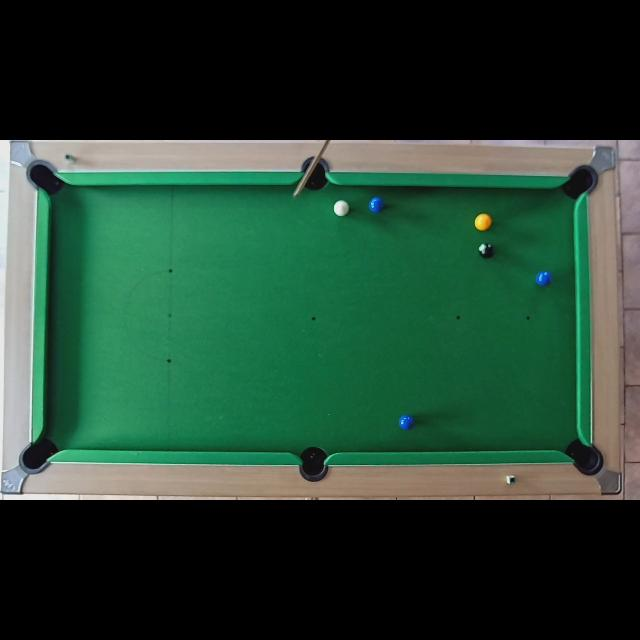Ball: (332, 199, 350, 217), (474, 213, 492, 231), (478, 242, 494, 260), (536, 271, 552, 287), (368, 197, 384, 213), (398, 414, 414, 430)
